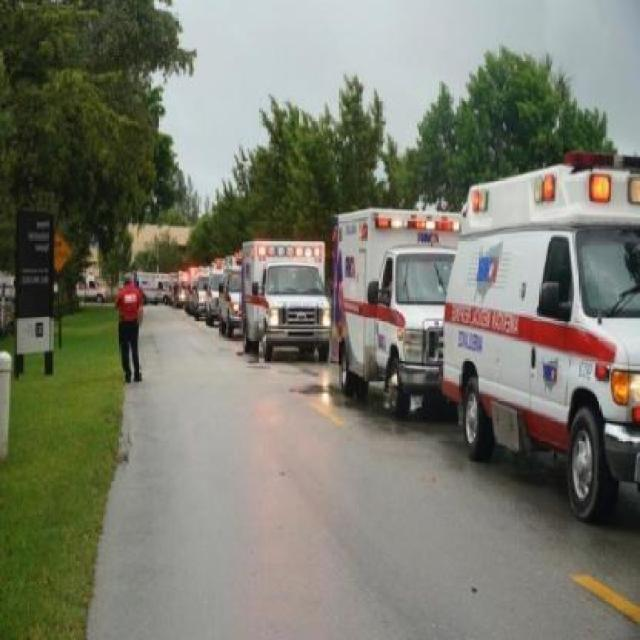emergency: (440, 150, 640, 522), (328, 207, 490, 417), (238, 237, 334, 355)
